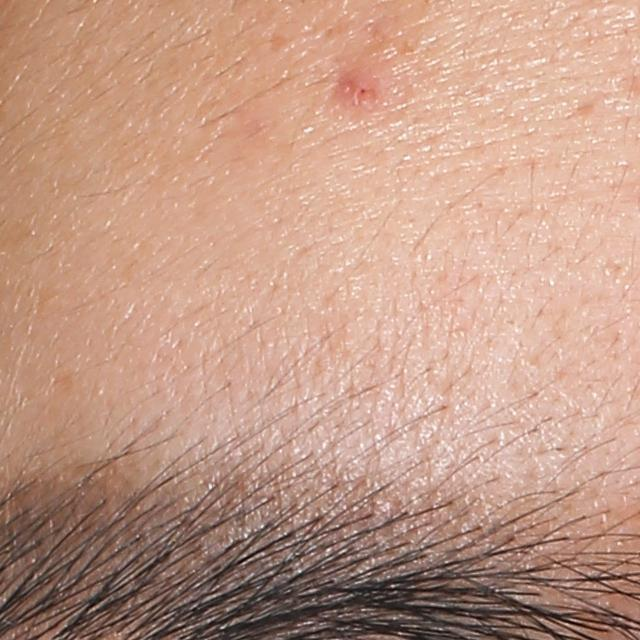papule: (339, 68, 381, 106)
